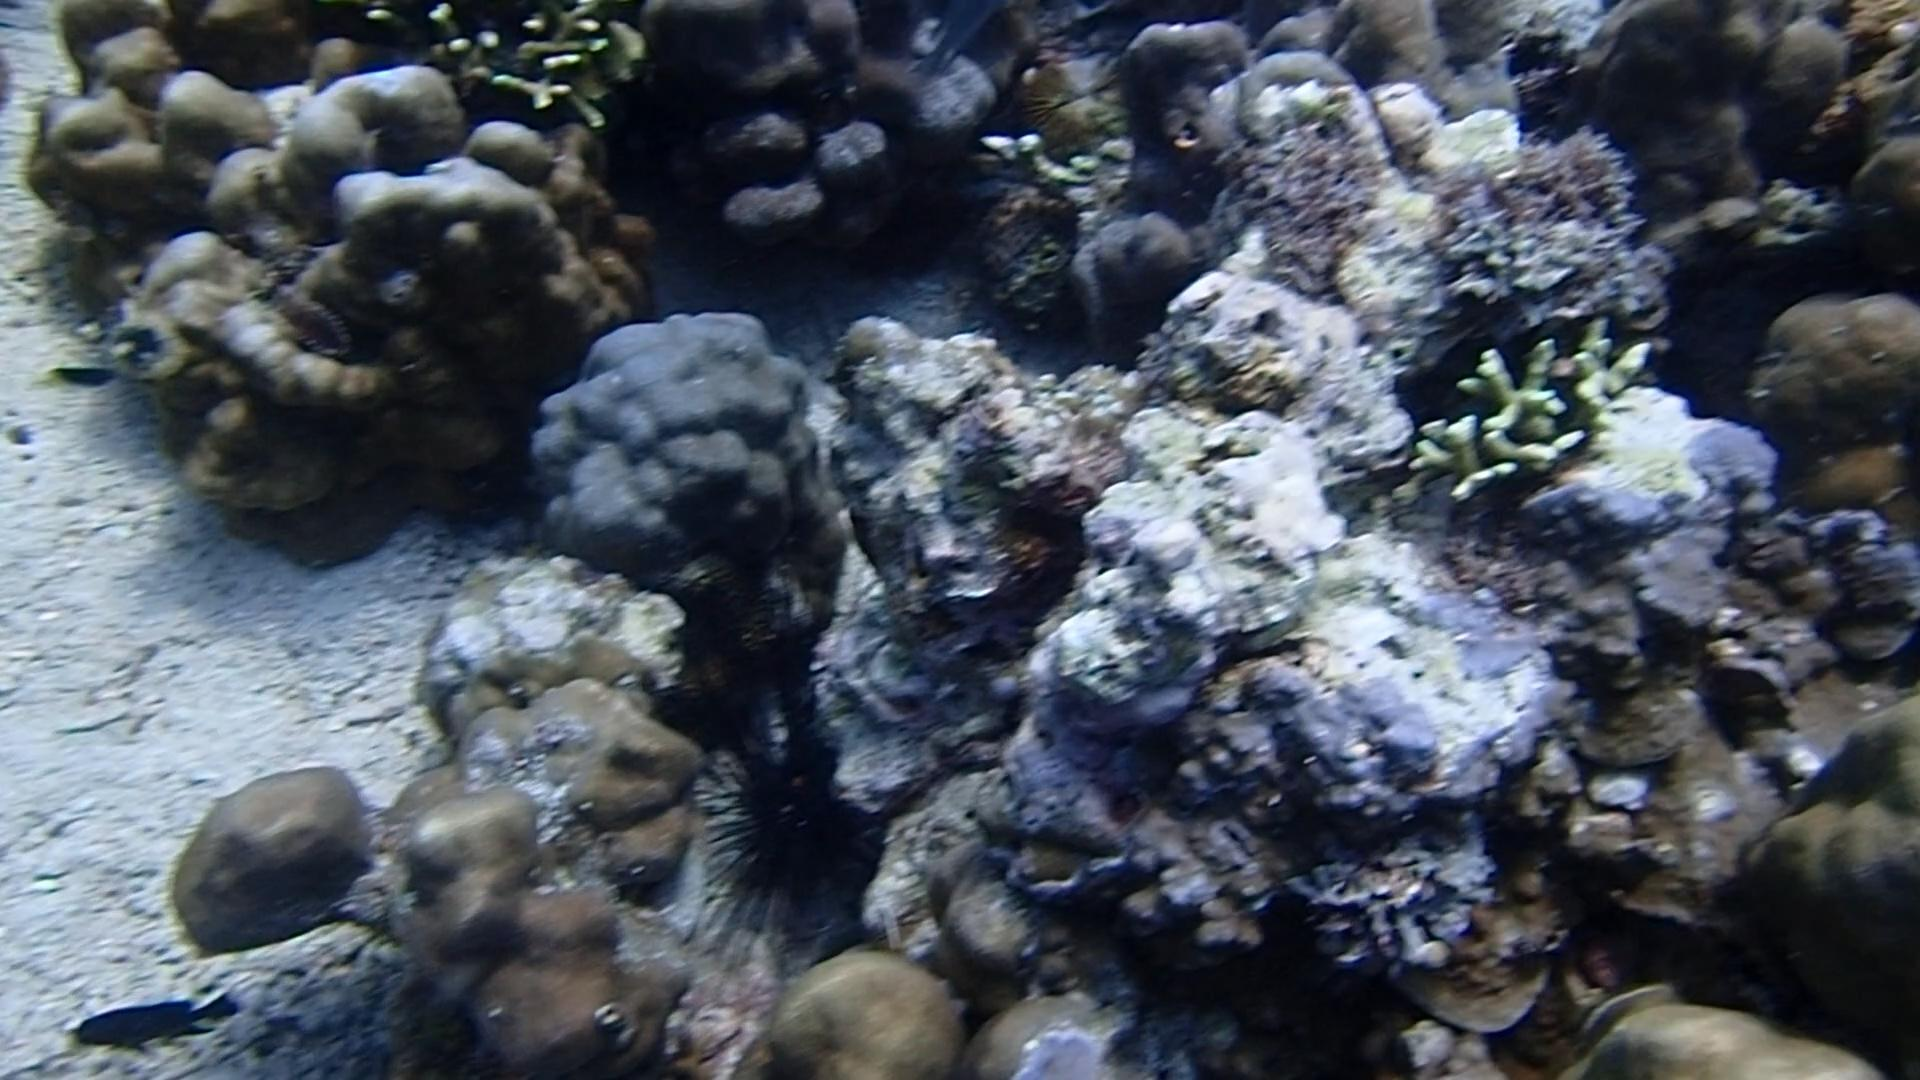Dark Fish: (58, 982, 244, 1068)
Yellow Tail: (25, 345, 119, 405)
